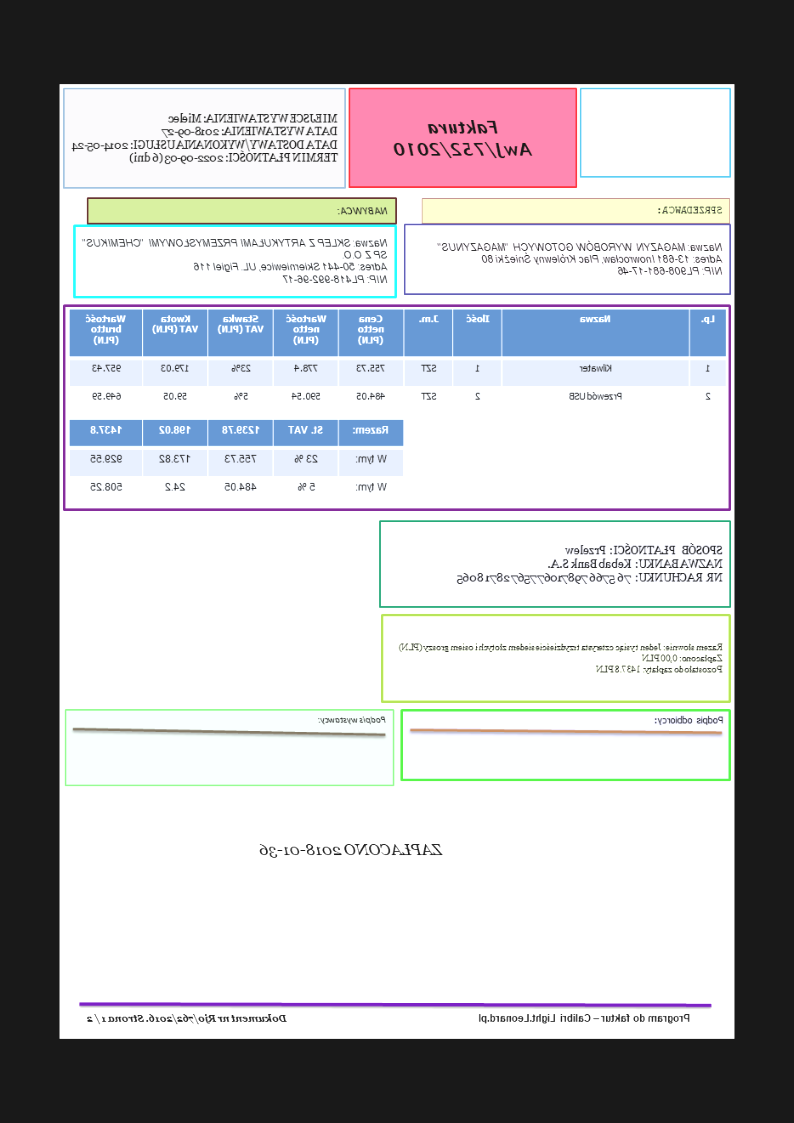Table: (69, 309, 727, 416), (68, 417, 406, 506)
TextBox: (80, 235, 391, 286), (70, 109, 339, 167), (456, 538, 724, 587), (396, 640, 724, 677), (434, 239, 724, 278), (389, 116, 536, 162), (254, 839, 446, 859), (476, 1009, 693, 1026), (84, 1009, 288, 1027), (653, 710, 725, 727), (656, 201, 725, 217), (319, 712, 389, 726), (337, 202, 391, 217)
